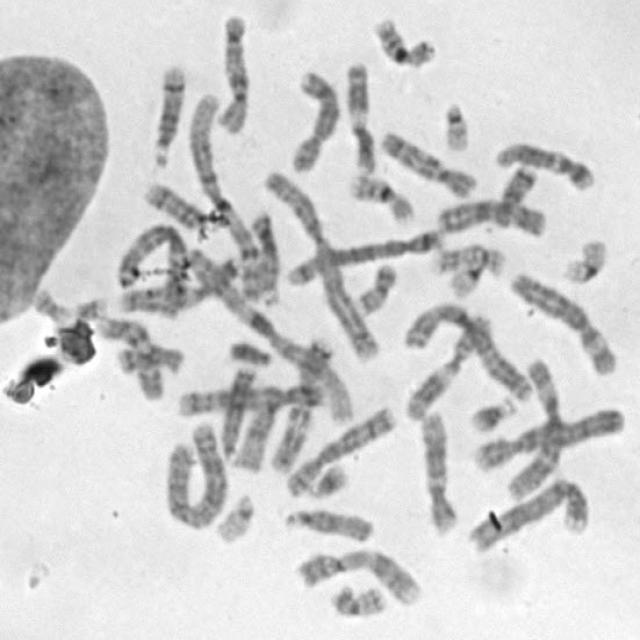A1: (176, 240, 356, 422), (182, 86, 266, 300)
A2: (258, 165, 381, 362), (158, 415, 230, 531)
A3: (397, 294, 533, 404), (112, 217, 192, 313)
B4: (467, 400, 627, 474), (462, 473, 592, 556)
B5: (281, 223, 447, 288), (170, 379, 328, 418)
C10: (374, 122, 480, 200), (210, 6, 253, 136)
C11: (400, 306, 494, 423), (340, 54, 379, 176)
C12: (489, 135, 597, 192), (415, 405, 460, 535)
C6: (504, 265, 619, 376), (504, 356, 567, 502)
C7: (264, 328, 338, 477), (113, 248, 245, 316)
C8: (280, 400, 398, 499), (286, 62, 342, 174)
C9: (290, 542, 425, 608), (92, 308, 167, 404)
D13: (214, 360, 259, 463), (245, 205, 282, 307)
D14: (143, 57, 187, 170), (138, 175, 214, 234)
D15: (232, 382, 281, 473), (280, 501, 376, 545)
E16: (367, 9, 439, 69), (343, 167, 417, 224)
E17: (427, 238, 509, 278), (27, 285, 109, 324)
E18: (489, 160, 540, 228), (111, 338, 186, 376)
F19: (557, 232, 610, 284), (444, 245, 488, 300)
F20: (350, 256, 400, 316), (324, 577, 390, 619)
G21: (465, 390, 518, 436), (303, 457, 351, 500)
G22: (210, 488, 257, 544), (437, 95, 472, 154)
X: (431, 191, 548, 239)
Y: (223, 334, 275, 369)
